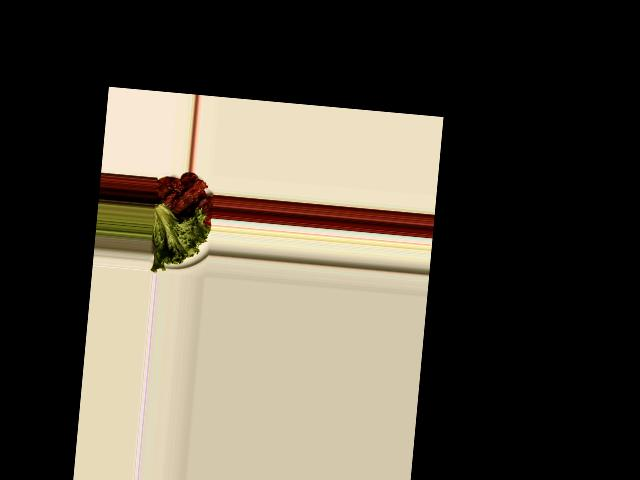lettuce: (148, 203, 210, 273)
